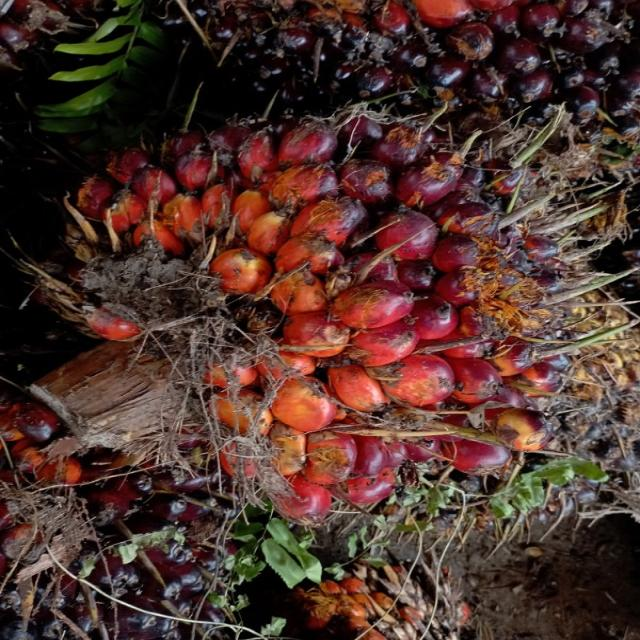fraksi 3: (11, 46, 631, 620)
